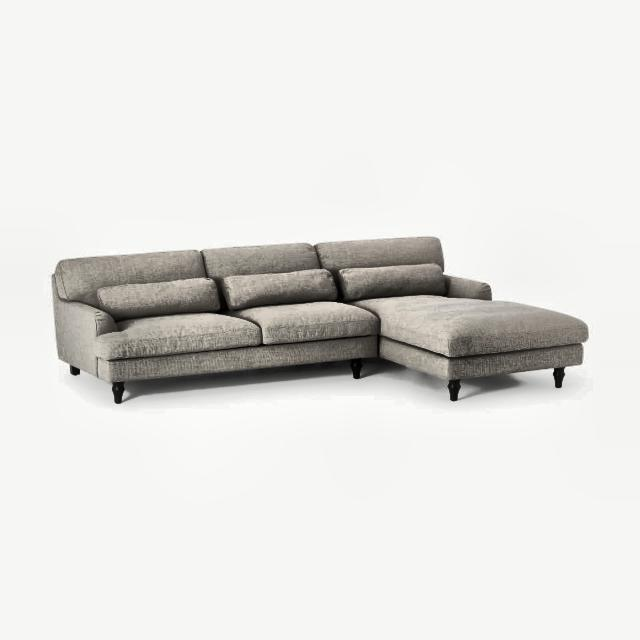sofa: (51, 237, 591, 405)
